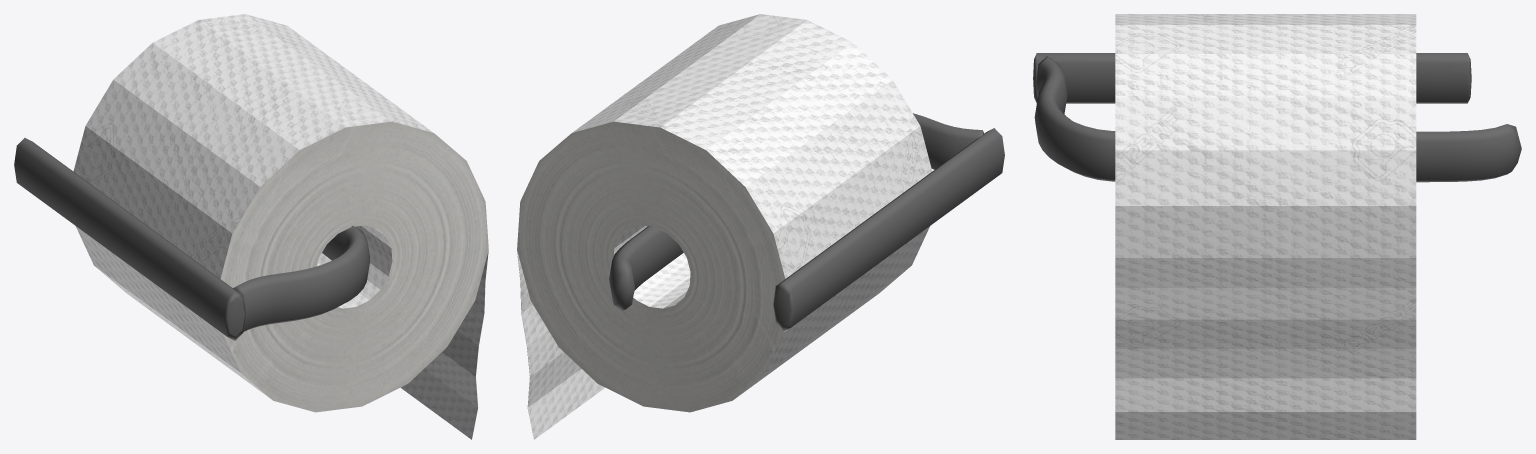
Rendered from tissue.fbx.
3 views of the same model, side by side, from view 1: azimuth 30°, elevation 25°; view 2: azimuth 150°, elevation 25°; view 3: azimuth 270°, elevation 25° (orthographic). The views are drawn at different scales.
Visible parts, largest first — view 1: tp:Tube002; view 2: tp:Tube002; view 3: tp:Tube002.
Boxes of the visible parts, x1,y1,x2,y2 form: tp:Tube002: (14,14,488,439); tp:Tube002: (517,14,1004,439); tp:Tube002: (1033,14,1521,439).
Bounding box in the file's own units: 1.54 × 1.67 × 2.1.
Materials: 3 (2 with a texture image).
